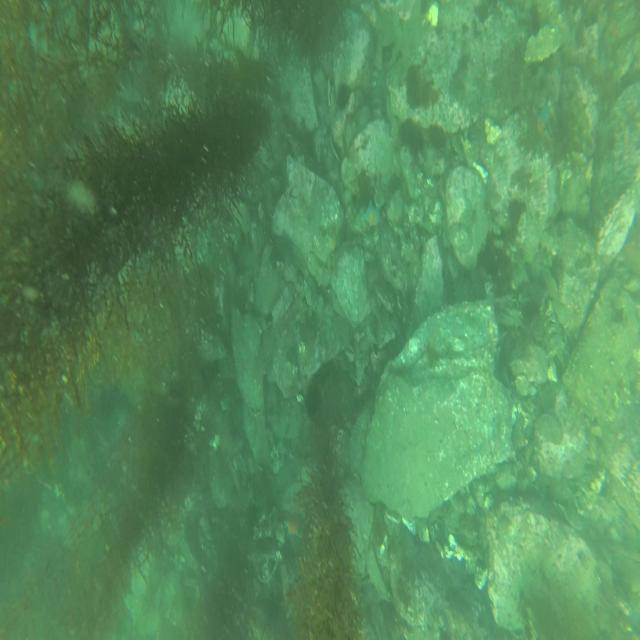echinus: (399, 112, 421, 152), (302, 381, 324, 416), (334, 78, 351, 110)
starfish: (531, 96, 553, 148), (282, 513, 302, 541), (362, 202, 382, 230)
